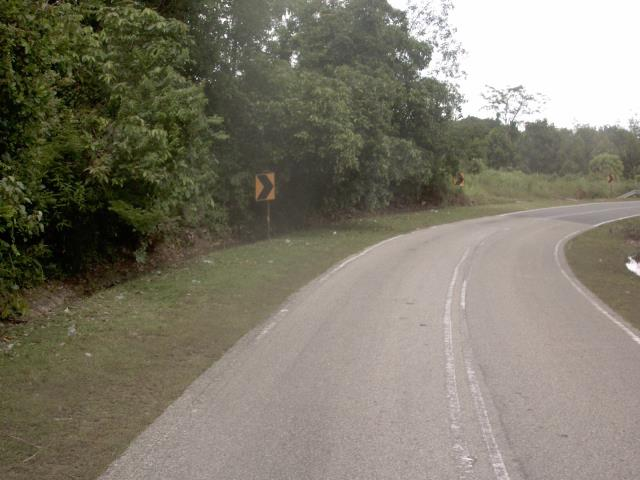traffic_sign: (248, 165, 282, 207)
